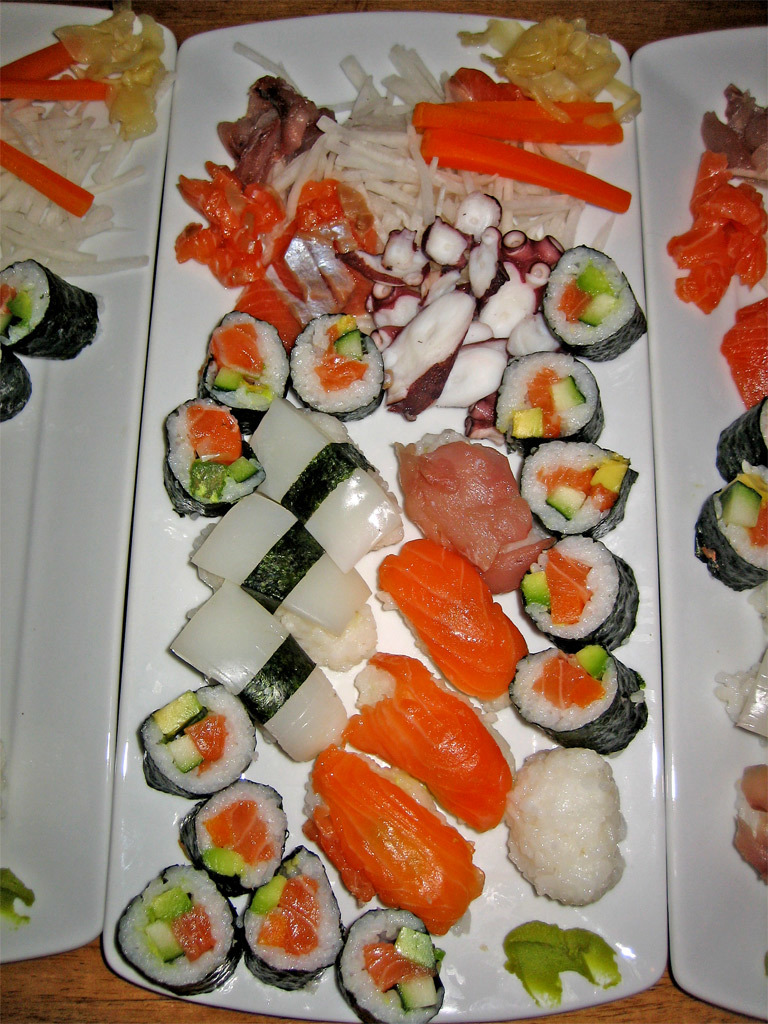sushi: (106, 246, 654, 1023), (104, 865, 234, 993), (529, 440, 635, 530), (0, 264, 98, 356), (695, 469, 766, 592), (717, 409, 767, 484), (0, 352, 37, 414)
